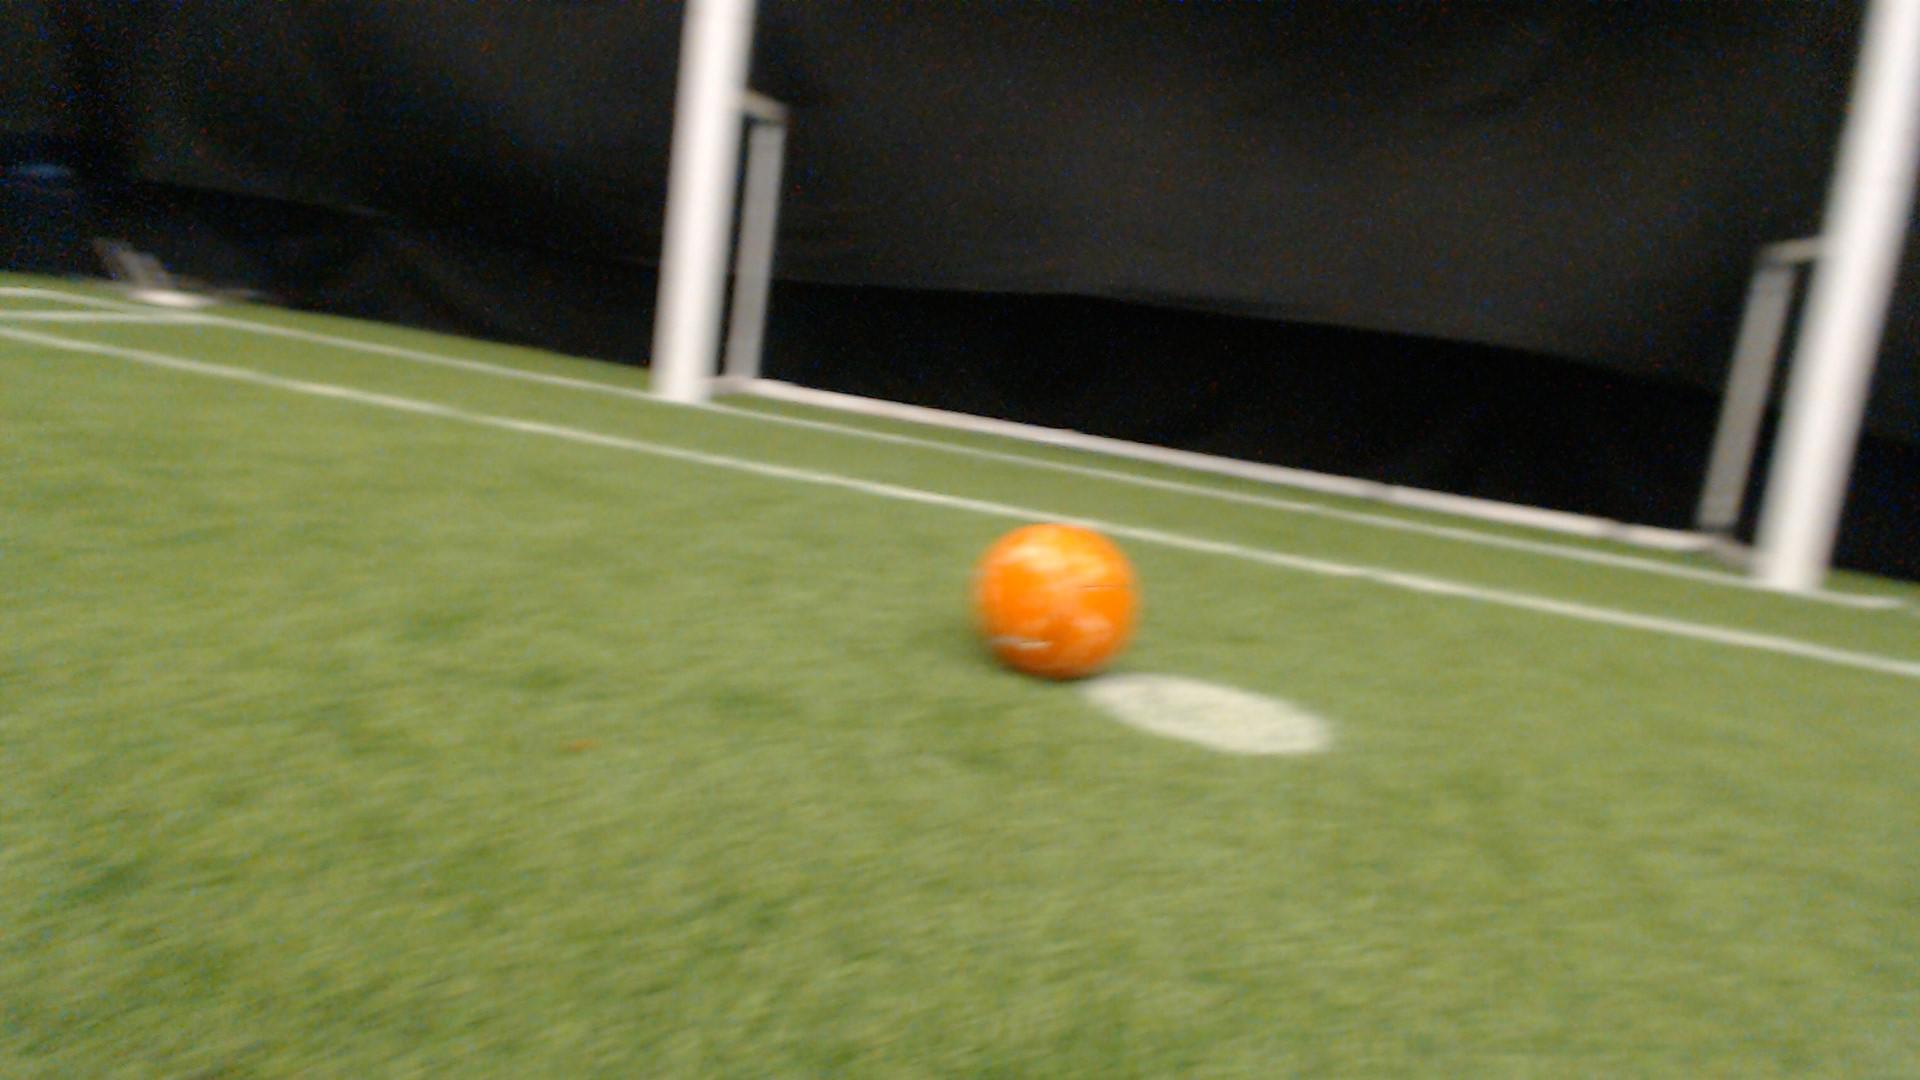bola: (955, 502, 1164, 695)
